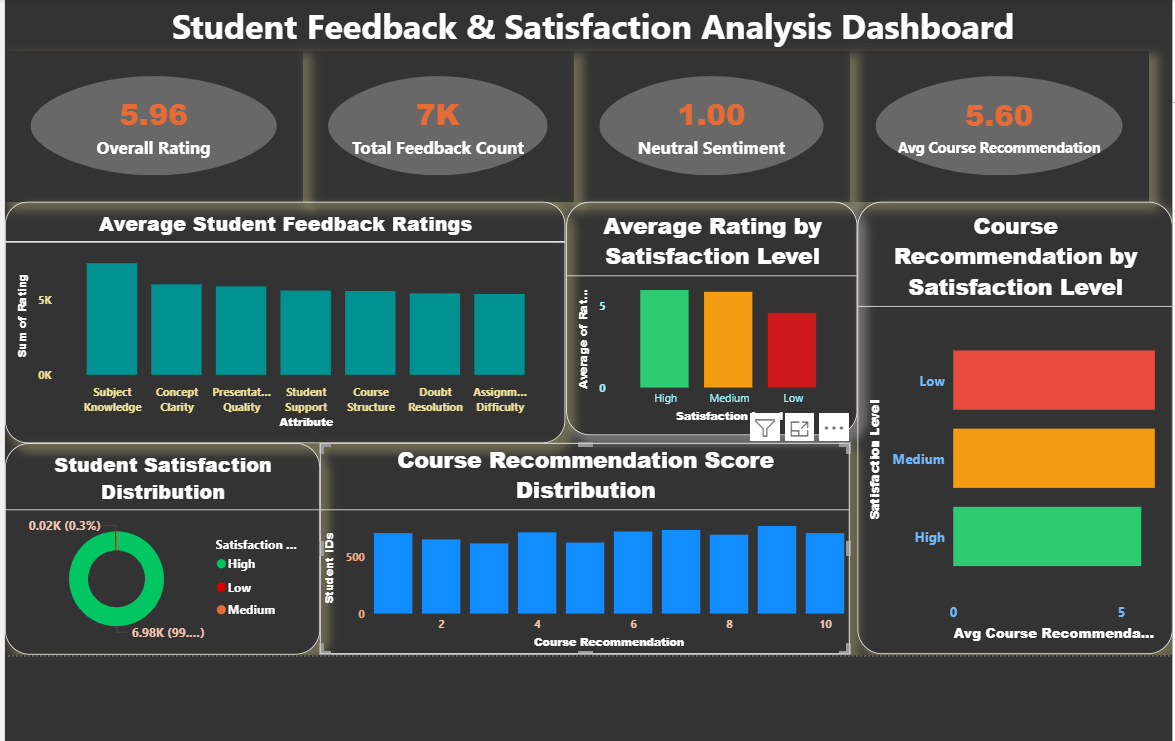

The page's visual inventory and layout, read from the dashboard file:
{"tool":"powerbi","page":{"name":"Page 1","canvas":[1280,720],"ordinal":0},"visuals":[{"type":"textbox","box":[9.6,0,1270.7,68.6],"z":0},{"type":"cardVisual","fields":{"Data":["student_feedback_final (2).Overall Rating"]},"box":[0,57.6,326.2,165.9],"z":1000},{"type":"cardVisual","fields":{"Data":["student_feedback_final (2).Total_Responses"]},"box":[326.2,57.6,297.5,165.9],"z":2000},{"type":"cardVisual","fields":{"Data":["student_feedback_final (2).Positive Sentiment"]},"box":[623.7,57.6,302.9,165.9],"z":3000},{"type":"cardVisual","fields":{"Data":["student_feedback_final (2).Avg Course Recommendation"]},"box":[926.6,57.6,327.6,165.9],"z":4000},{"type":"clusteredColumnChart","title":"Average Student Feedback Ratings","fields":{"Category":["student_feedback_final (2).Attribute"],"Y":["Sum(student_feedback_final (2).Rating)"]},"box":[0,223.4,614.1,264.6],"z":5000},{"type":"donutChart","title":"Student Satisfaction Distribution","fields":{"Category":["student_feedback_final (2).Satisfaction Level"],"Y":["CountNonNull(student_feedback_final (2).Student ID)"]},"box":[0,488,345.4,231.7],"z":5001},{"type":"clusteredColumnChart","title":"Average Rating by Satisfaction Level","fields":{"Category":["student_feedback_final (2).Satisfaction Level"],"Y":["Avg(student_feedback_final (2).Rating)"]},"box":[615.5,223.4,319.4,256.3],"z":5002},{"type":"clusteredBarChart","title":"Course Recommendation by Satisfaction Level","fields":{"Category":["student_feedback_final (2).Satisfaction Level"],"Y":["student_feedback_final (2).Avg Course Recommendation"]},"box":[934.8,223.4,345.4,496.2],"z":5003},{"type":"clusteredColumnChart","title":"Course Recommendation Score Distribution","fields":{"Category":["student_feedback_final (2).Course Recommendation"],"Y":["CountNonNull(student_feedback_final (2).Student ID)"]},"box":[345.4,488,581.2,231.7],"z":5004}]}

Visuals, with their boxes on the page's 1280x720 design canvas (x1, y1, x2, y2). These are canvas units, not pixel positions in the 1175x741 screenshot, which may show the page scaled, cropped or inside an application window:
textbox: box=[10, 0, 1280, 69]
cardVisual - student_feedback_final (2).Overall Rating: box=[0, 58, 326, 224]
cardVisual - student_feedback_final (2).Total_Responses: box=[326, 58, 624, 224]
cardVisual - student_feedback_final (2).Positive Sentiment: box=[624, 58, 927, 224]
cardVisual - student_feedback_final (2).Avg Course Recommendation: box=[927, 58, 1254, 224]
"Average Student Feedback Ratings" clusteredColumnChart: box=[0, 223, 614, 488]
"Student Satisfaction Distribution" donutChart: box=[0, 488, 345, 720]
"Average Rating by Satisfaction Level" clusteredColumnChart: box=[616, 223, 935, 480]
"Course Recommendation by Satisfaction Level" clusteredBarChart: box=[935, 223, 1280, 720]
"Course Recommendation Score Distribution" clusteredColumnChart: box=[345, 488, 927, 720]
